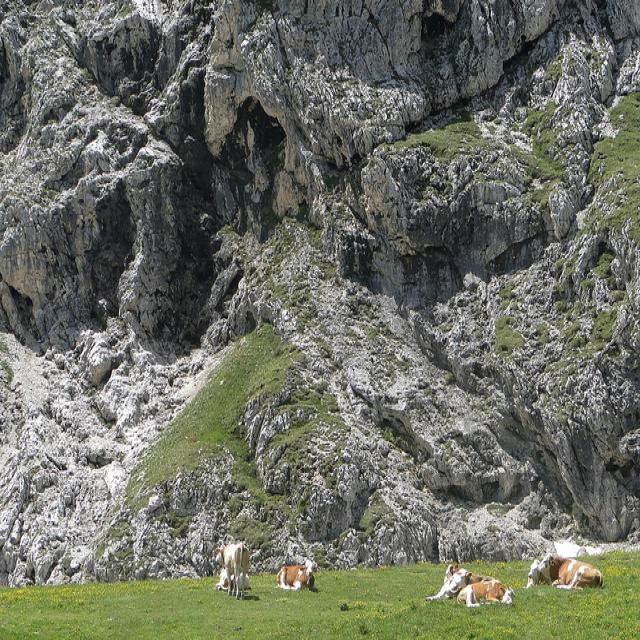cow: (427, 563, 515, 606), (212, 540, 248, 599), (545, 554, 603, 588), (273, 564, 317, 590), (214, 568, 247, 589), (526, 556, 548, 586)
